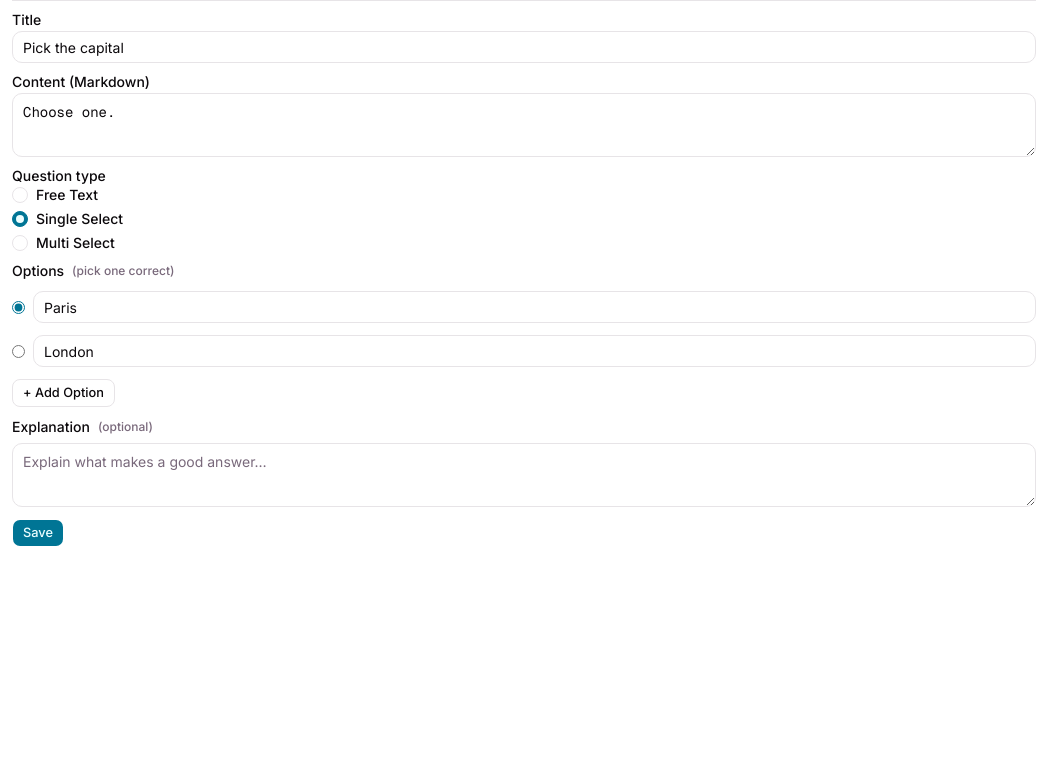
Test case: Feature: Pool question edit panel — a refused save keeps what's on screen › keeps the typed title, content and a newly-ticked correct-answer marker on screen
Replace the text in the field labelled "Title" with "Pick the capital (revised)" at x=524, y=47, box [12, 31, 1036, 63]
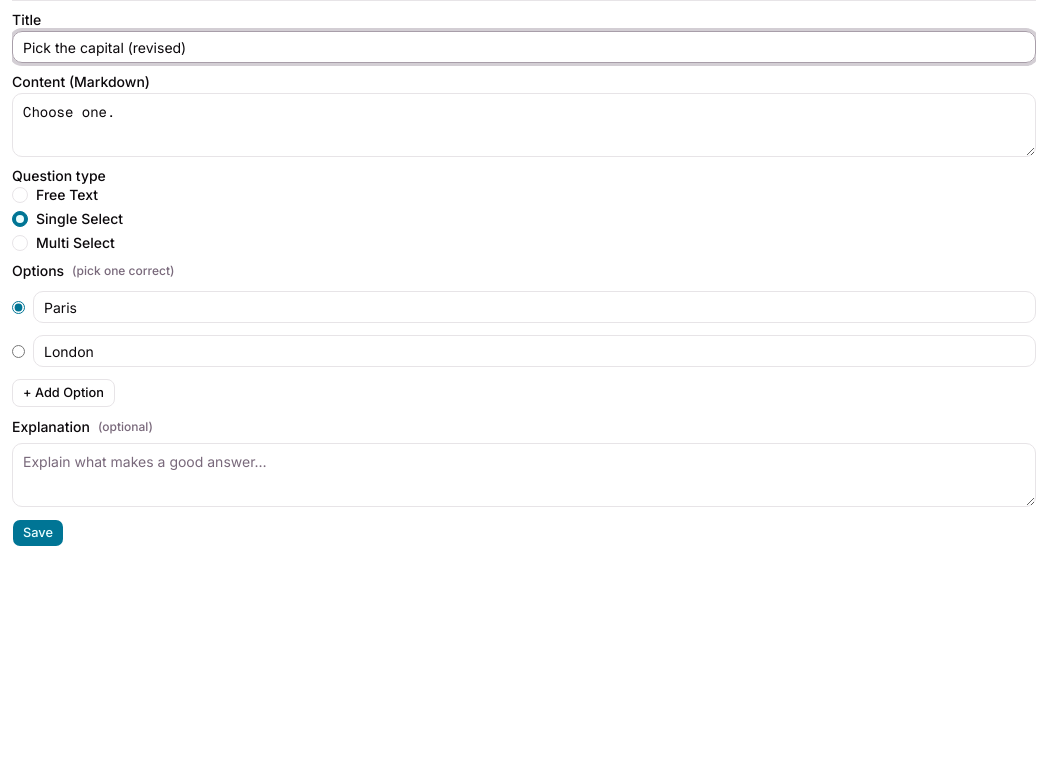
Click the radio button named "mark option 2 correct".
click(18, 351)  # box [12, 344, 25, 358]
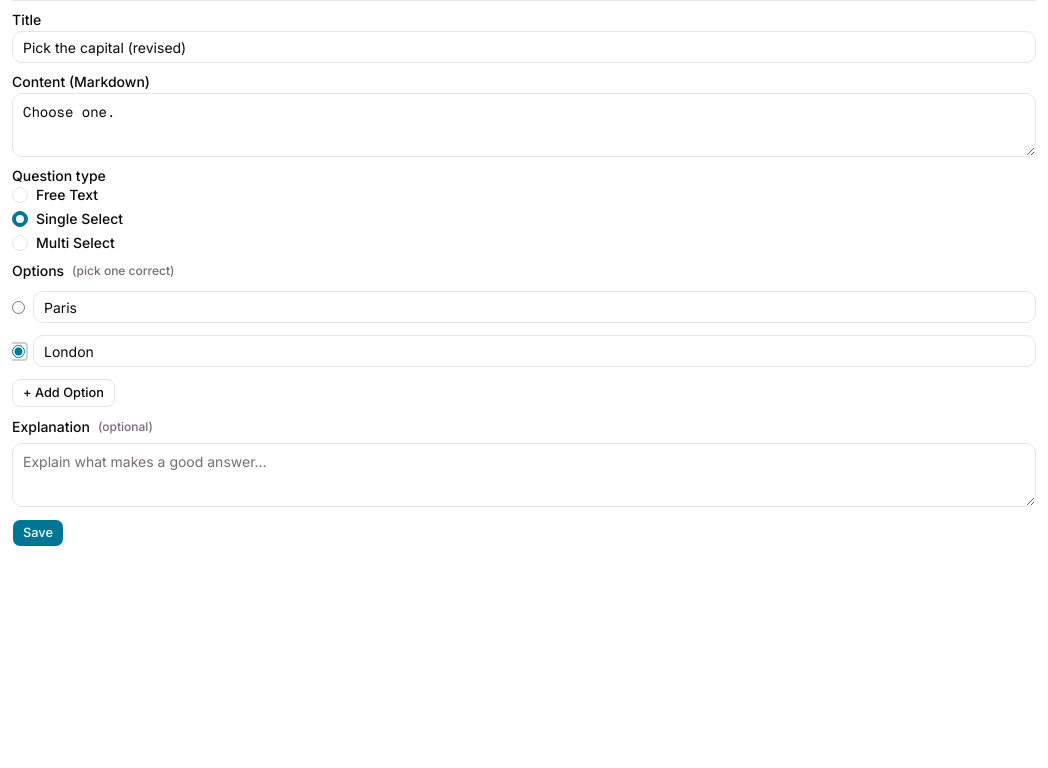
Click the button "Save".
click(38, 533)  # box [12, 519, 64, 547]
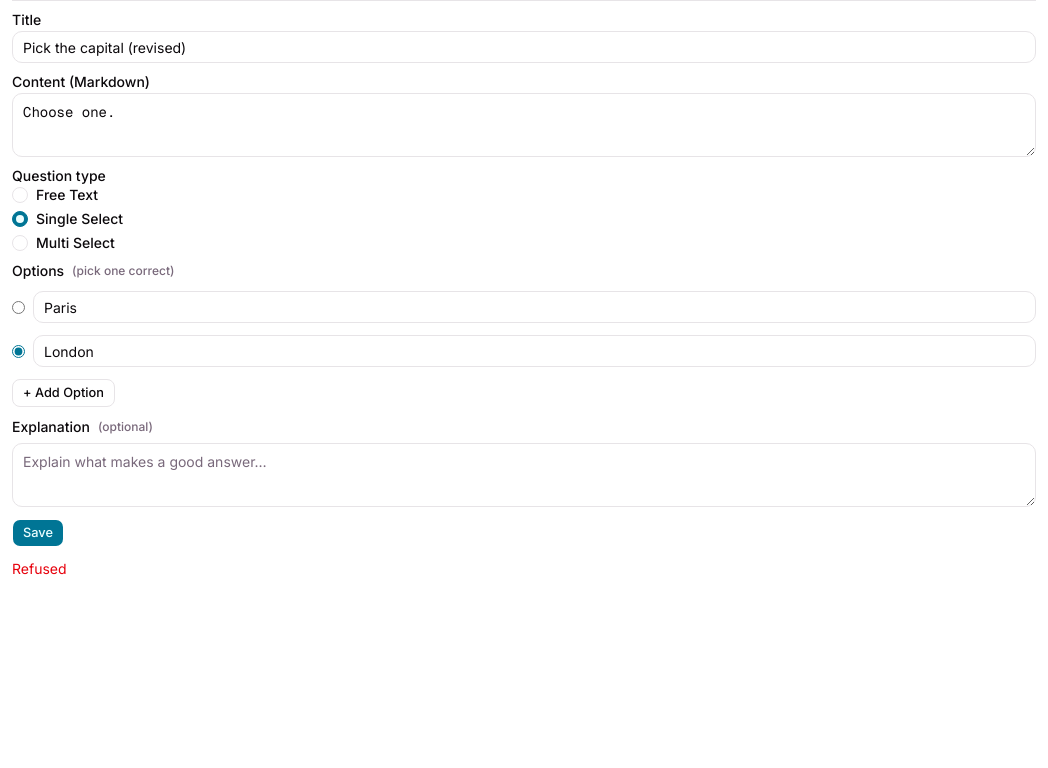
Expected: the radio button named "mark option 2 correct" is checked, [12, 344, 25, 358]
Expected: the message "Refused" is shown, [12, 560, 67, 577]
